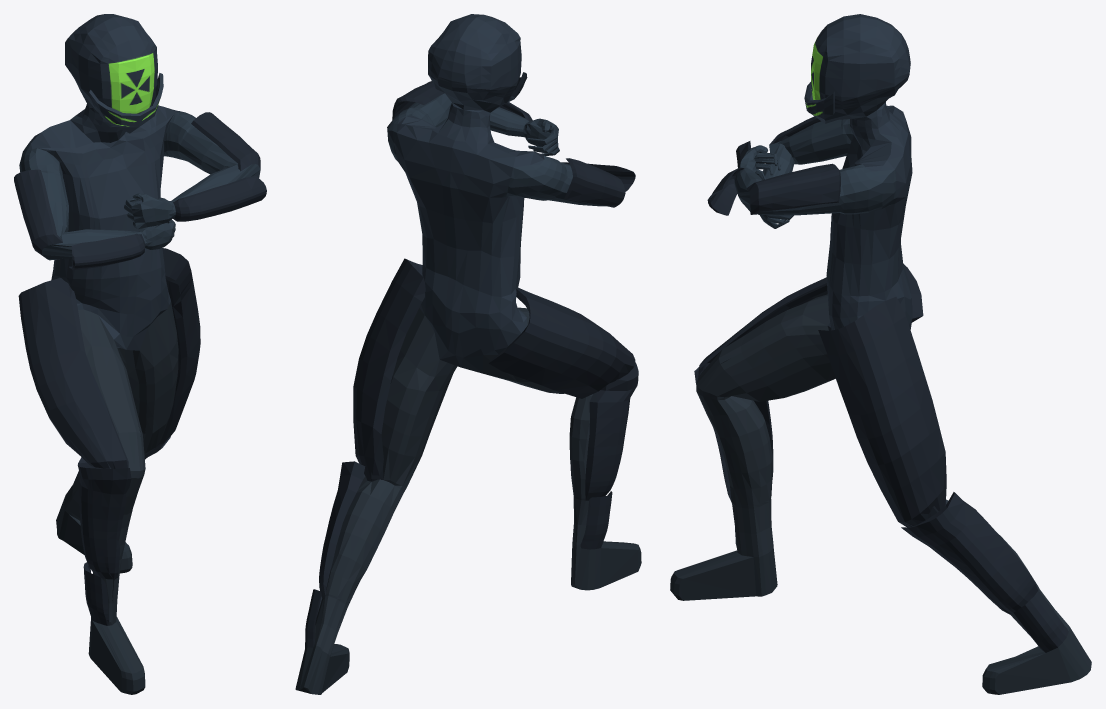
Rendered from Bastion_WL_000006.obj.
3 renders of one model, left to right at view 1: azimuth 30°, elevation 25°; view 2: azimuth 150°, elevation 25°; view 3: azimuth 270°, elevation 25°, orthographic. The views are drawn at different scales.
Parts seen in each view (by area): view 1: Cube.002; view 2: Cube.002; view 3: Cube.002.
Boxes of the visible parts, box(x1,y1,x2,y2) form: Cube.002: box(14, 14, 266, 694); Cube.002: box(295, 14, 641, 694); Cube.002: box(670, 14, 1091, 694).
Bounding box in the file's own units: 1.3 × 3.58 × 2.15.
